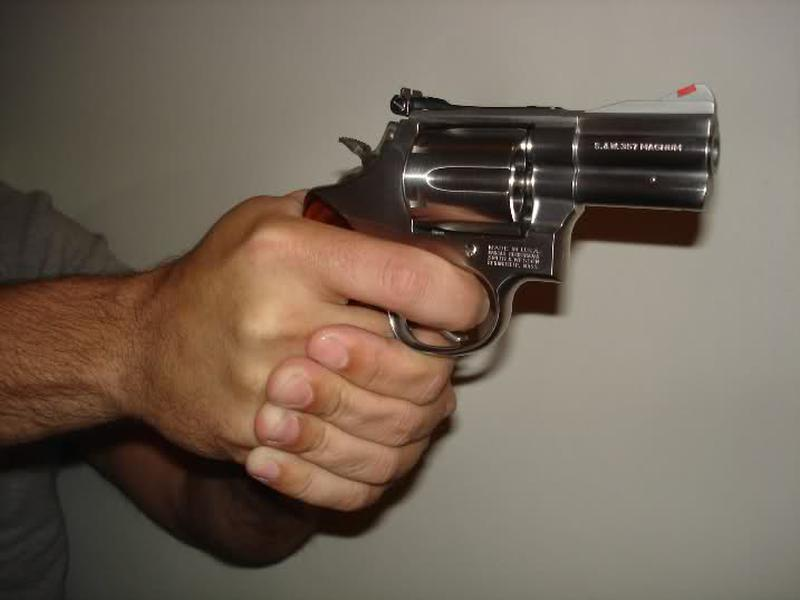Revolver: (296, 67, 730, 363)
